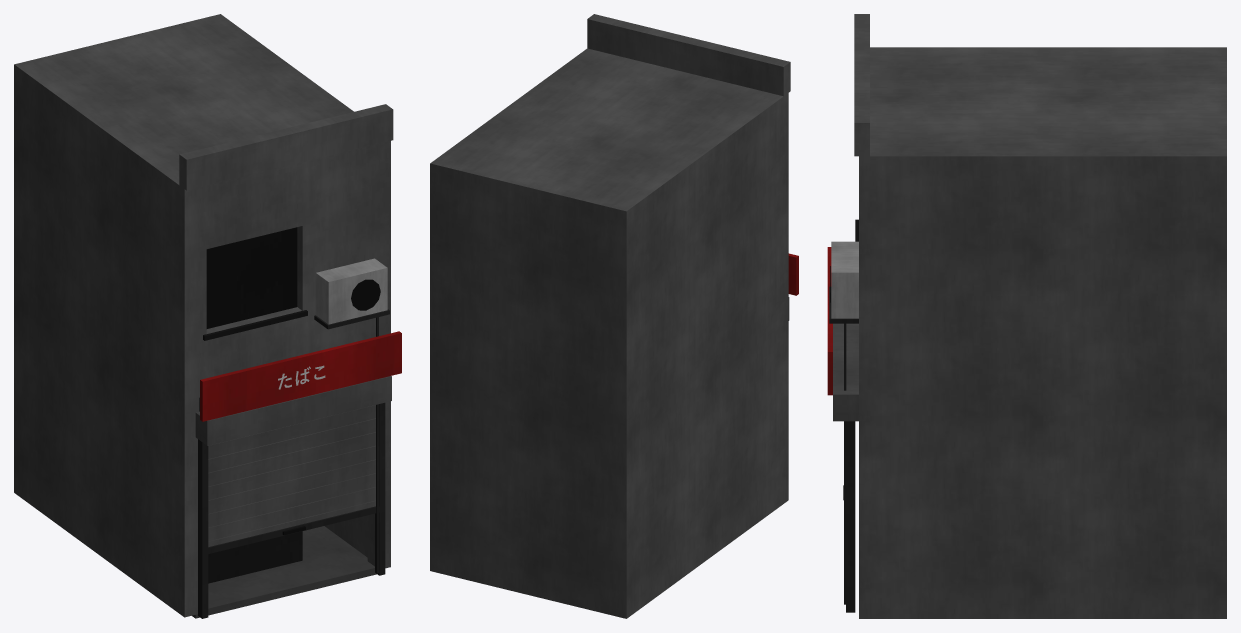
File: shop_tobacco.glb
The picture shows the model from 3 angles, left to right: view 1: azimuth 30°, elevation 25°; view 2: azimuth 150°, elevation 25°; view 3: azimuth 270°, elevation 25°; orthographic projection. The views are drawn at different scales.
Visible parts, largest first — view 1: shop_tobacco; view 2: shop_tobacco; view 3: shop_tobacco.
Boxes of the visible parts, x1=… form: shop_tobacco: x1=14, y1=14, x2=401, y2=618; shop_tobacco: x1=430, y1=14, x2=798, y2=618; shop_tobacco: x1=827, y1=14, x2=1226, y2=618.
Bounding box in the file's own units: 2.8 × 6 × 4.34.
11 materials, 11 textured.
